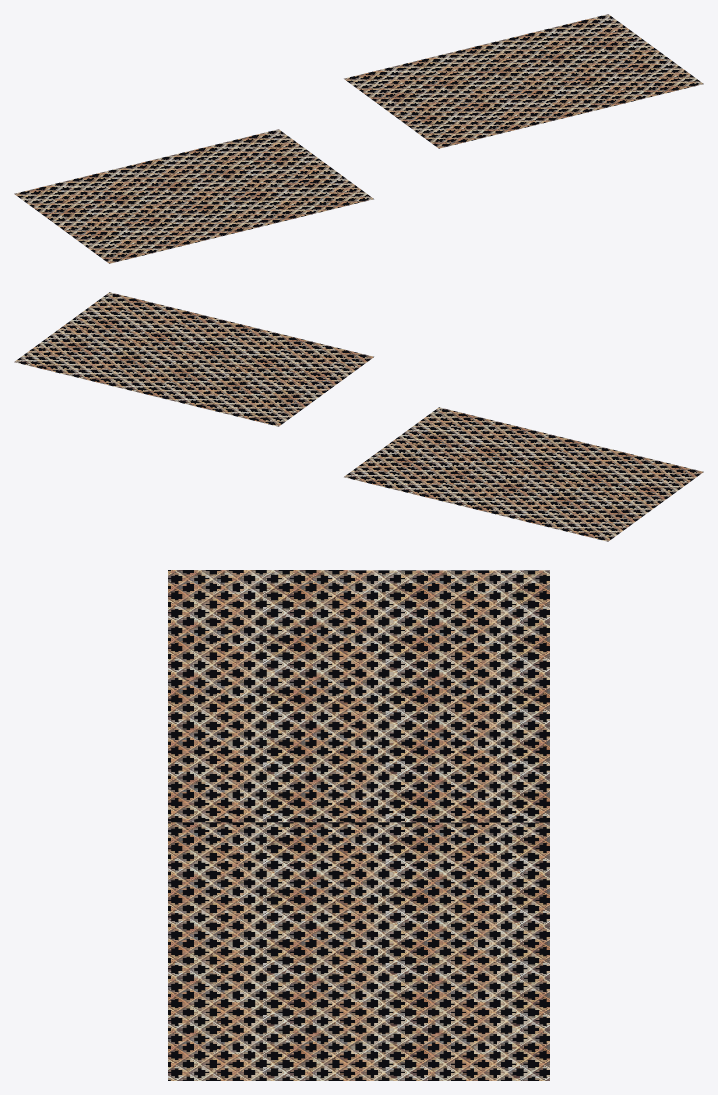
File: Bullet Station 57.fbx
3 views of the same model, one above another, from view 1: azimuth 30°, elevation 25°; view 2: azimuth 150°, elevation 25°; view 3: azimuth 270°, elevation 25° (orthographic). The views are drawn at different scales.
Parts seen in each view (by area): view 1: STG08_PNW_07; view 2: STG08_PNW_07; view 3: STG08_PNW_07.
Boxes of the visible parts, left/top/right/bottom form: STG08_PNW_07: left=14, top=14, right=703, bottom=263; STG08_PNW_07: left=14, top=292, right=703, bottom=541; STG08_PNW_07: left=168, top=570, right=549, bottom=1080.
Size of the model in its own units: 35908 by 2000 by 9997.
